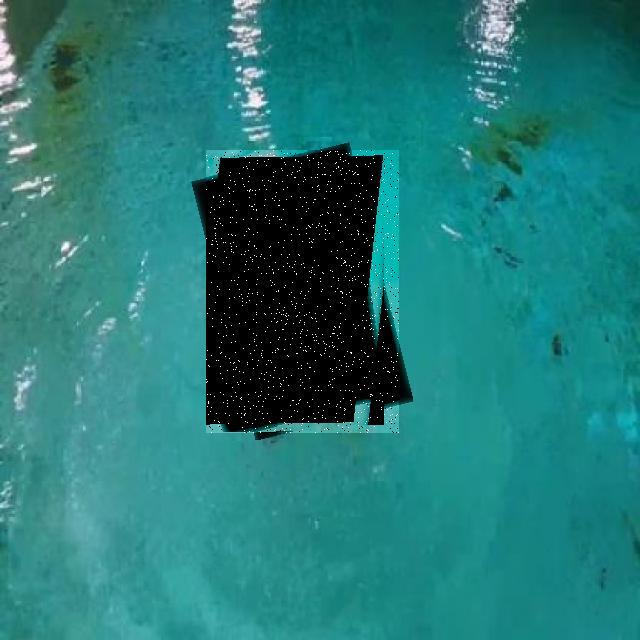Out of Water: (206, 150, 399, 433)
